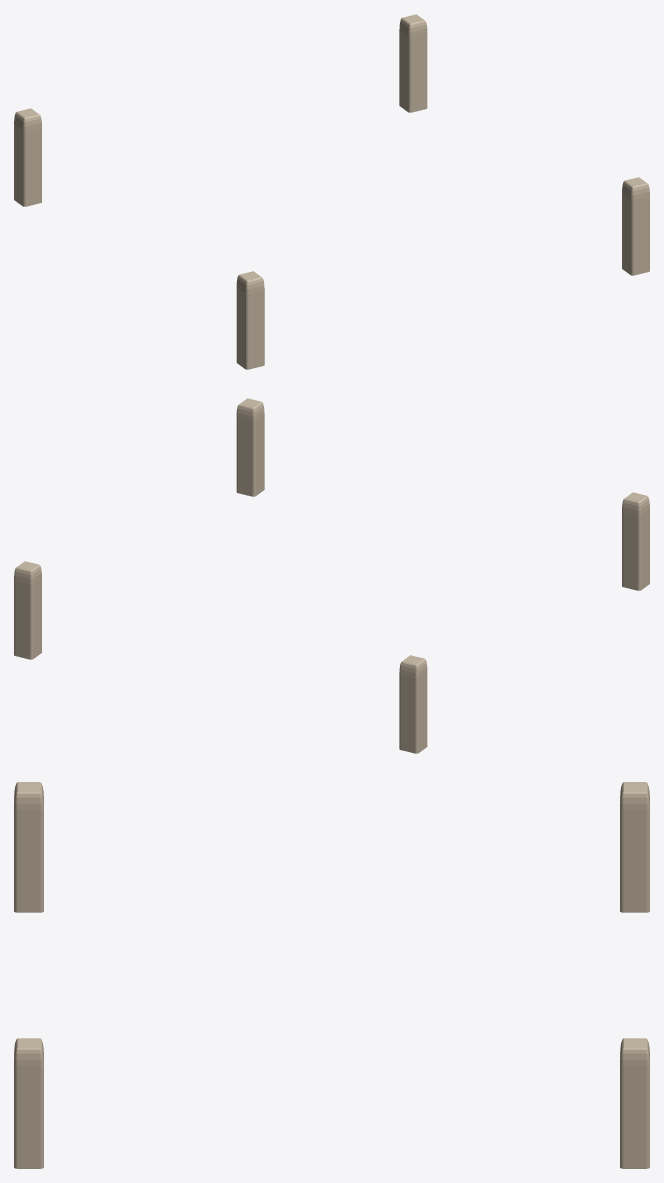
Rendered from Posts.glb.
The picture shows the model from 3 angles, top to bottom: view 1: azimuth 30°, elevation 25°; view 2: azimuth 150°, elevation 25°; view 3: azimuth 270°, elevation 25°; orthographic projection. The views are drawn at different scales.
Parts seen in each view (by area): view 1: Mesh_Mesh_head_geo.001_lambert2SG.001; view 2: Mesh_Mesh_head_geo.001_lambert2SG.001; view 3: Mesh_Mesh_head_geo.001_lambert2SG.001.
Boxes of the visible parts, x1=… form: Mesh_Mesh_head_geo.001_lambert2SG.001: x1=14, y1=14, x2=649, y2=369; Mesh_Mesh_head_geo.001_lambert2SG.001: x1=14, y1=398, x2=649, y2=753; Mesh_Mesh_head_geo.001_lambert2SG.001: x1=14, y1=782, x2=649, y2=1168.
Bounding box in the file's own units: 0.106 × 0.022 × 0.106.
